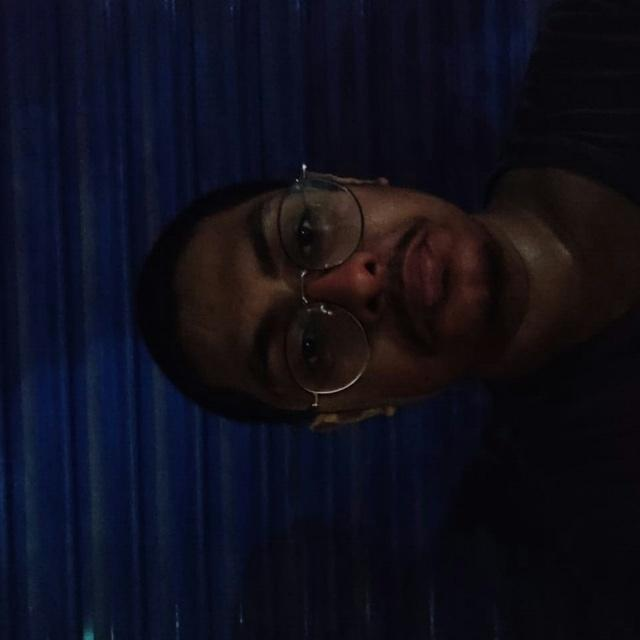Sad: (143, 171, 519, 425)
